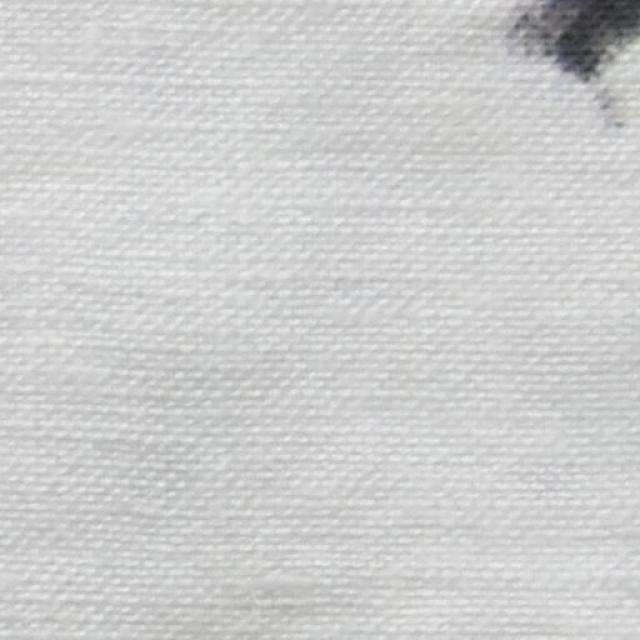Stain: (508, 0, 640, 81)
